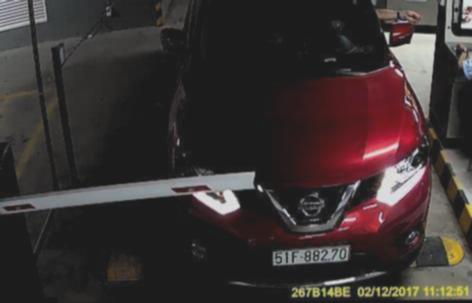License_Plate: (270, 241, 354, 264)
